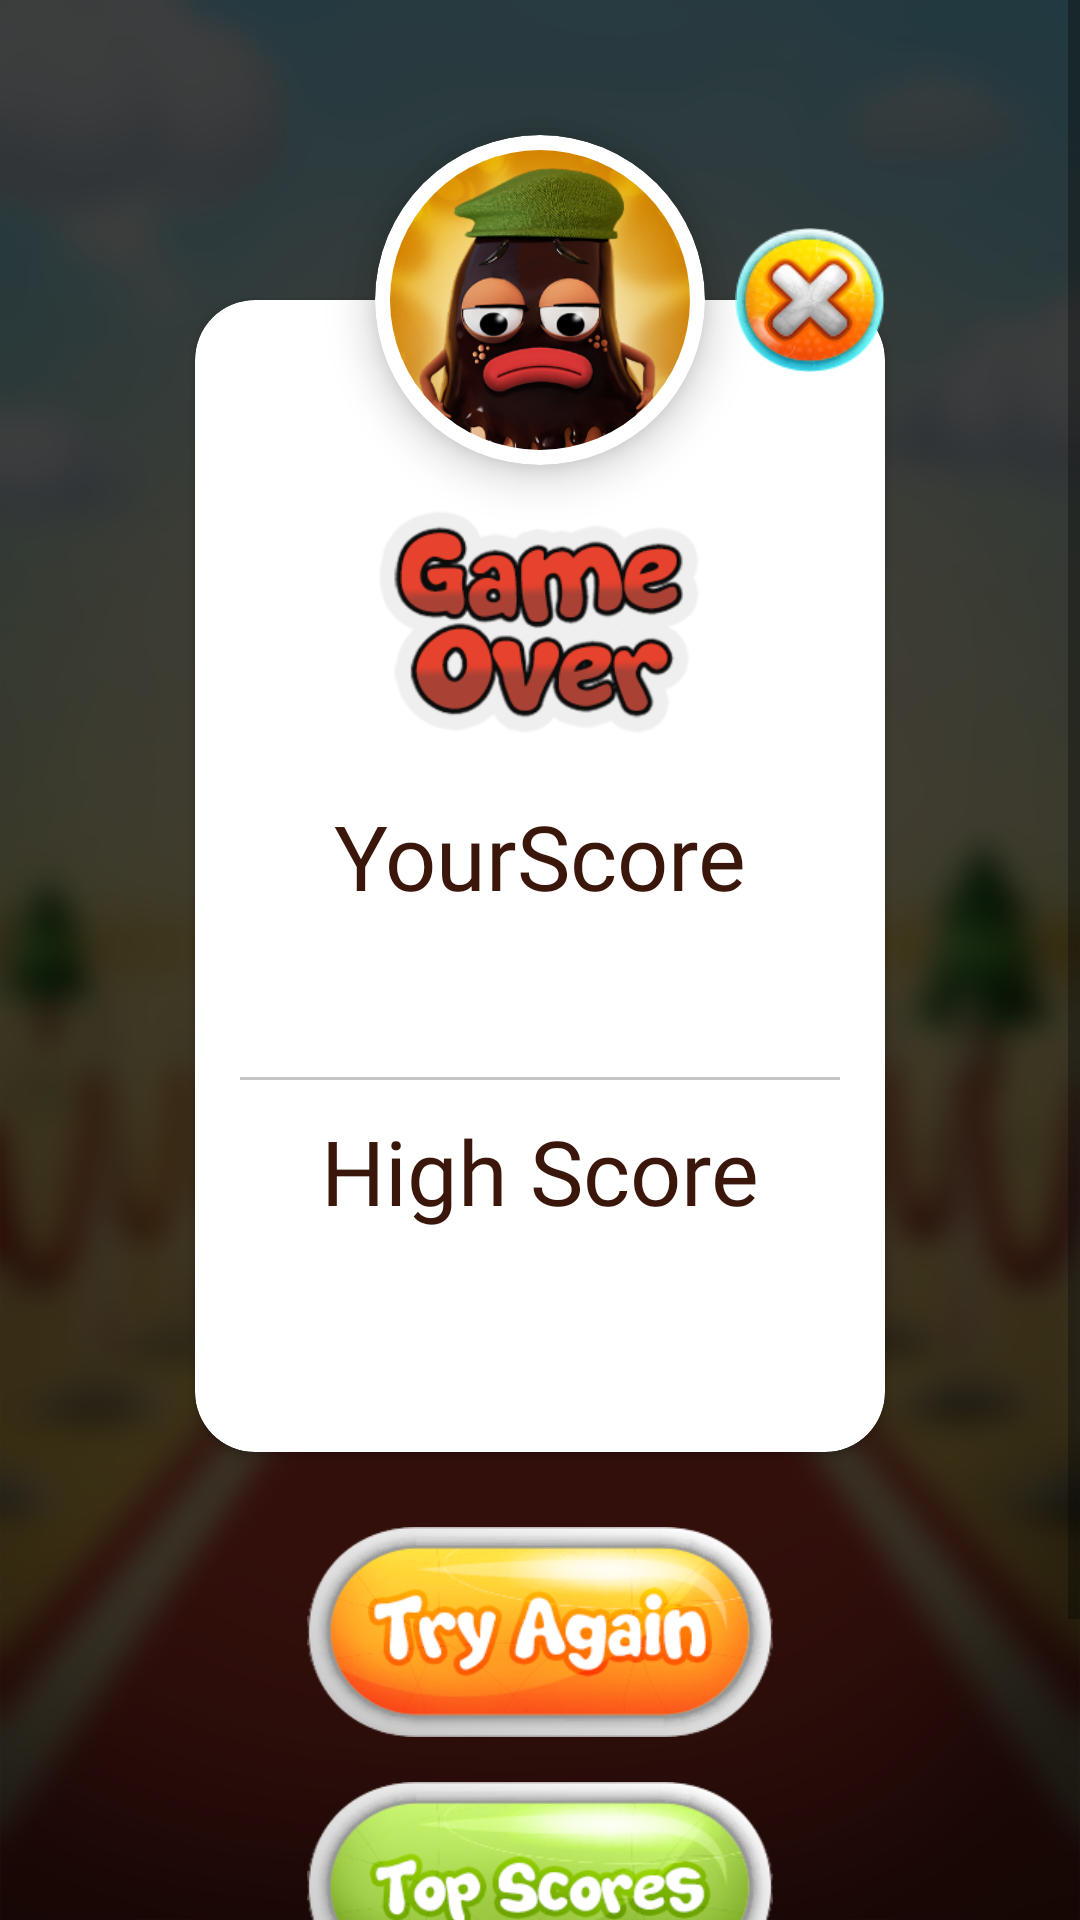

Screen size 1080*1920. Icon name, then its center in pixels as point (x, y):
exit: point (810, 300)
sad moodo: point (540, 300)
